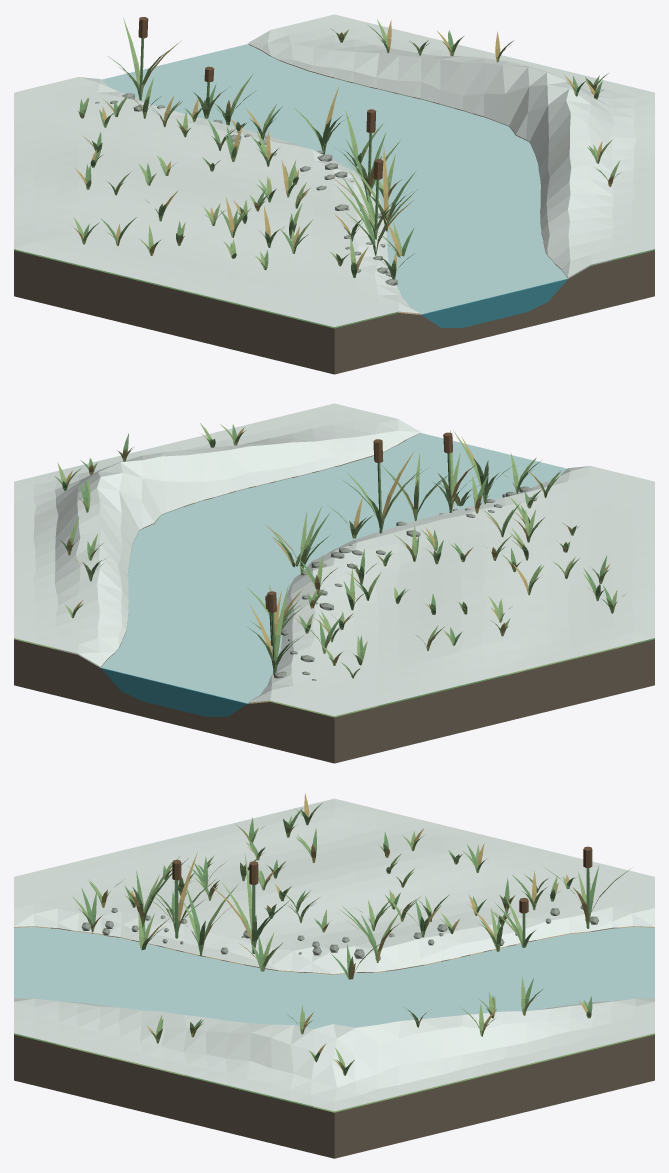
Rendered from river-bend.glb.
3 renders of one model, top to bottom at view 1: azimuth 30°, elevation 25°; view 2: azimuth 150°, elevation 25°; view 3: azimuth 270°, elevation 25°, orthographic.
Visible parts, largest first — view 1: RiparianRoot_mesh, BankSnow.003_mesh, BankSnow.004_mesh, BankSnow.002_mesh, BankSnow.001_mesh, RiverIce.001_mesh, BankSnow_mesh, RiverIce_mesh, RiverIce.002_mesh, RiverIce.003_mesh, RiverIce.004_mesh, ChannelTerrain_mesh (+5 smaller); view 2: RiparianRoot_mesh, BankSnow.003_mesh, BankSnow.002_mesh, BankSnow.004_mesh, BankSnow.001_mesh, RiverIce.001_mesh, BankSnow_mesh, RiverIce_mesh, RiverIce.002_mesh, RiverIce.003_mesh, RiverIce.004_mesh, ChannelTerrain_mesh (+5 smaller); view 3: RiparianRoot_mesh, BankSnow.004_mesh, BankSnow.003_mesh, BankSnow.002_mesh, BankSnow.001_mesh, RiverIce.001_mesh, BankSnow_mesh, RiverIce_mesh, RiverIce.002_mesh, RiverIce.003_mesh, RiverIce.004_mesh, ChannelTerrain_mesh (+6 smaller).
Part boxes in pixels (x1,y1,x2,y2): RiparianRoot_mesh: (14, 93, 654, 374); BankSnow.003_mesh: (14, 14, 654, 326); BankSnow.004_mesh: (53, 19, 613, 321); BankSnow.002_mesh: (14, 14, 654, 326); BankSnow.001_mesh: (14, 19, 654, 321); RiverIce.001_mesh: (132, 54, 539, 304); BankSnow_mesh: (14, 31, 654, 306); RiverIce_mesh: (164, 59, 533, 314); RiverIce.002_mesh: (112, 49, 567, 298); RiverIce.003_mesh: (102, 44, 560, 293); RiverIce.004_mesh: (333, 133, 547, 283); ChannelTerrain_mesh: (14, 44, 654, 328); RiparianRoot_mesh: (14, 486, 654, 763); BankSnow.003_mesh: (14, 408, 654, 710); BankSnow.002_mesh: (14, 408, 654, 710); BankSnow.004_mesh: (14, 414, 654, 705); BankSnow.001_mesh: (14, 403, 654, 710); RiverIce.001_mesh: (119, 448, 548, 693); BankSnow_mesh: (14, 403, 654, 715); RiverIce_mesh: (127, 459, 566, 687); RiverIce.002_mesh: (115, 433, 525, 698); RiverIce.003_mesh: (101, 438, 507, 703); RiverIce.004_mesh: (206, 447, 484, 583); ChannelTerrain_mesh: (14, 433, 654, 717); RiparianRoot_mesh: (14, 901, 654, 1158); BankSnow.004_mesh: (14, 814, 654, 1095); BankSnow.003_mesh: (14, 799, 654, 1111); BankSnow.002_mesh: (14, 798, 654, 1111); BankSnow.001_mesh: (14, 804, 654, 1105); RiverIce.001_mesh: (14, 928, 654, 1024); BankSnow_mesh: (14, 804, 654, 1105); RiverIce_mesh: (14, 927, 654, 1023); RiverIce.002_mesh: (14, 927, 654, 1029); RiverIce.003_mesh: (14, 927, 654, 1027); RiverIce.004_mesh: (33, 952, 400, 1020); ChannelTerrain_mesh: (14, 926, 654, 1112).
Size of the model in its own units: 3.5 by 0.7178 by 3.03.
